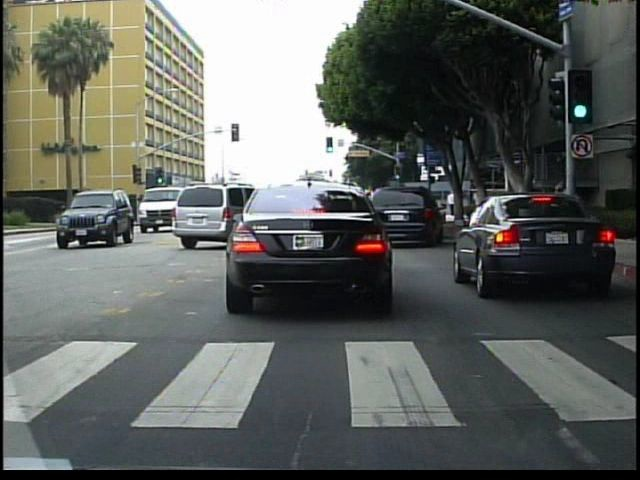person: (560, 175, 579, 235), (446, 188, 458, 219)
